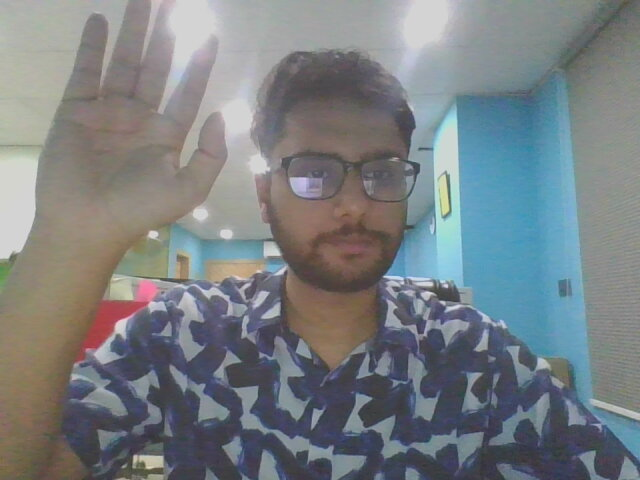hello: (27, 1, 237, 282)
